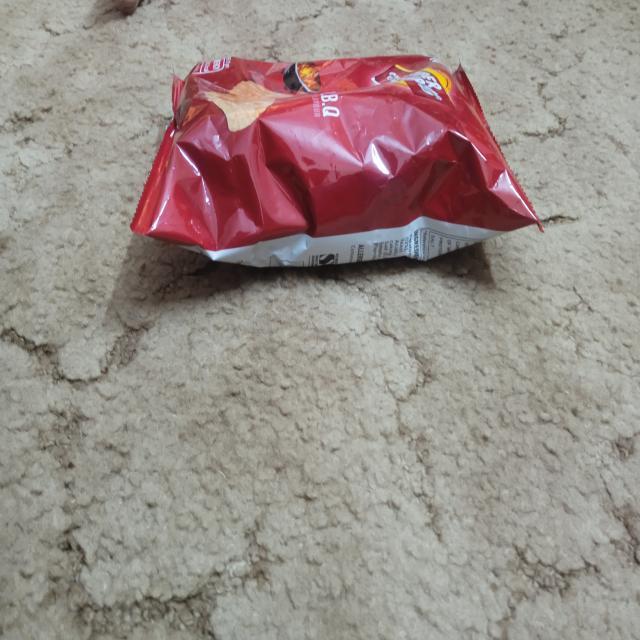Plastic: (137, 56, 544, 274)
